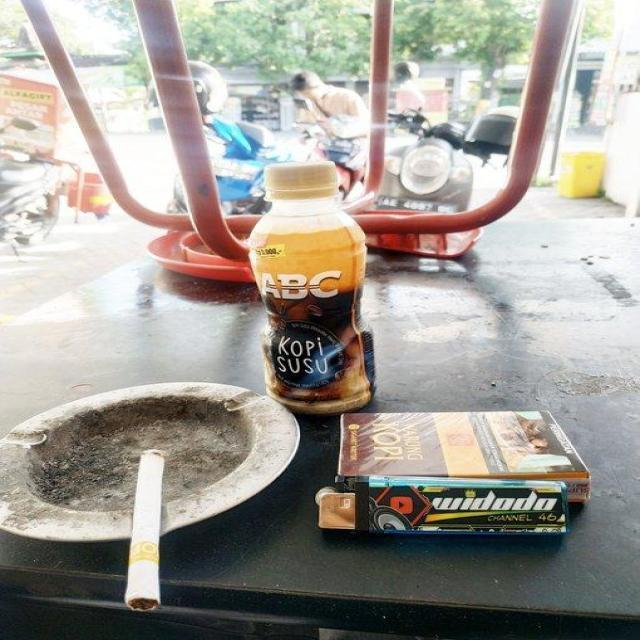rokok: (126, 448, 166, 614)
